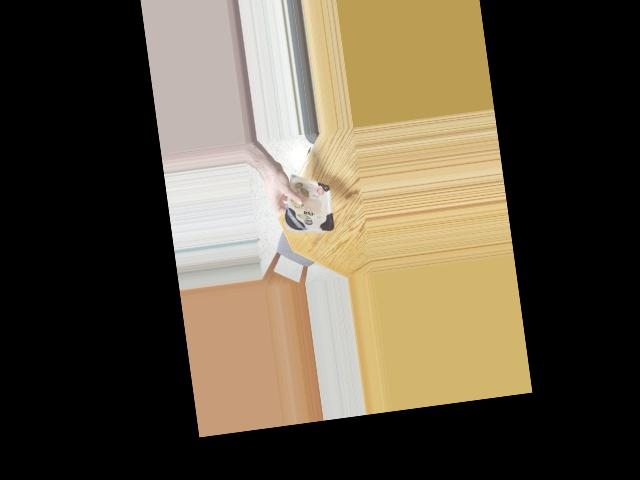cheese: (287, 174, 330, 237)
